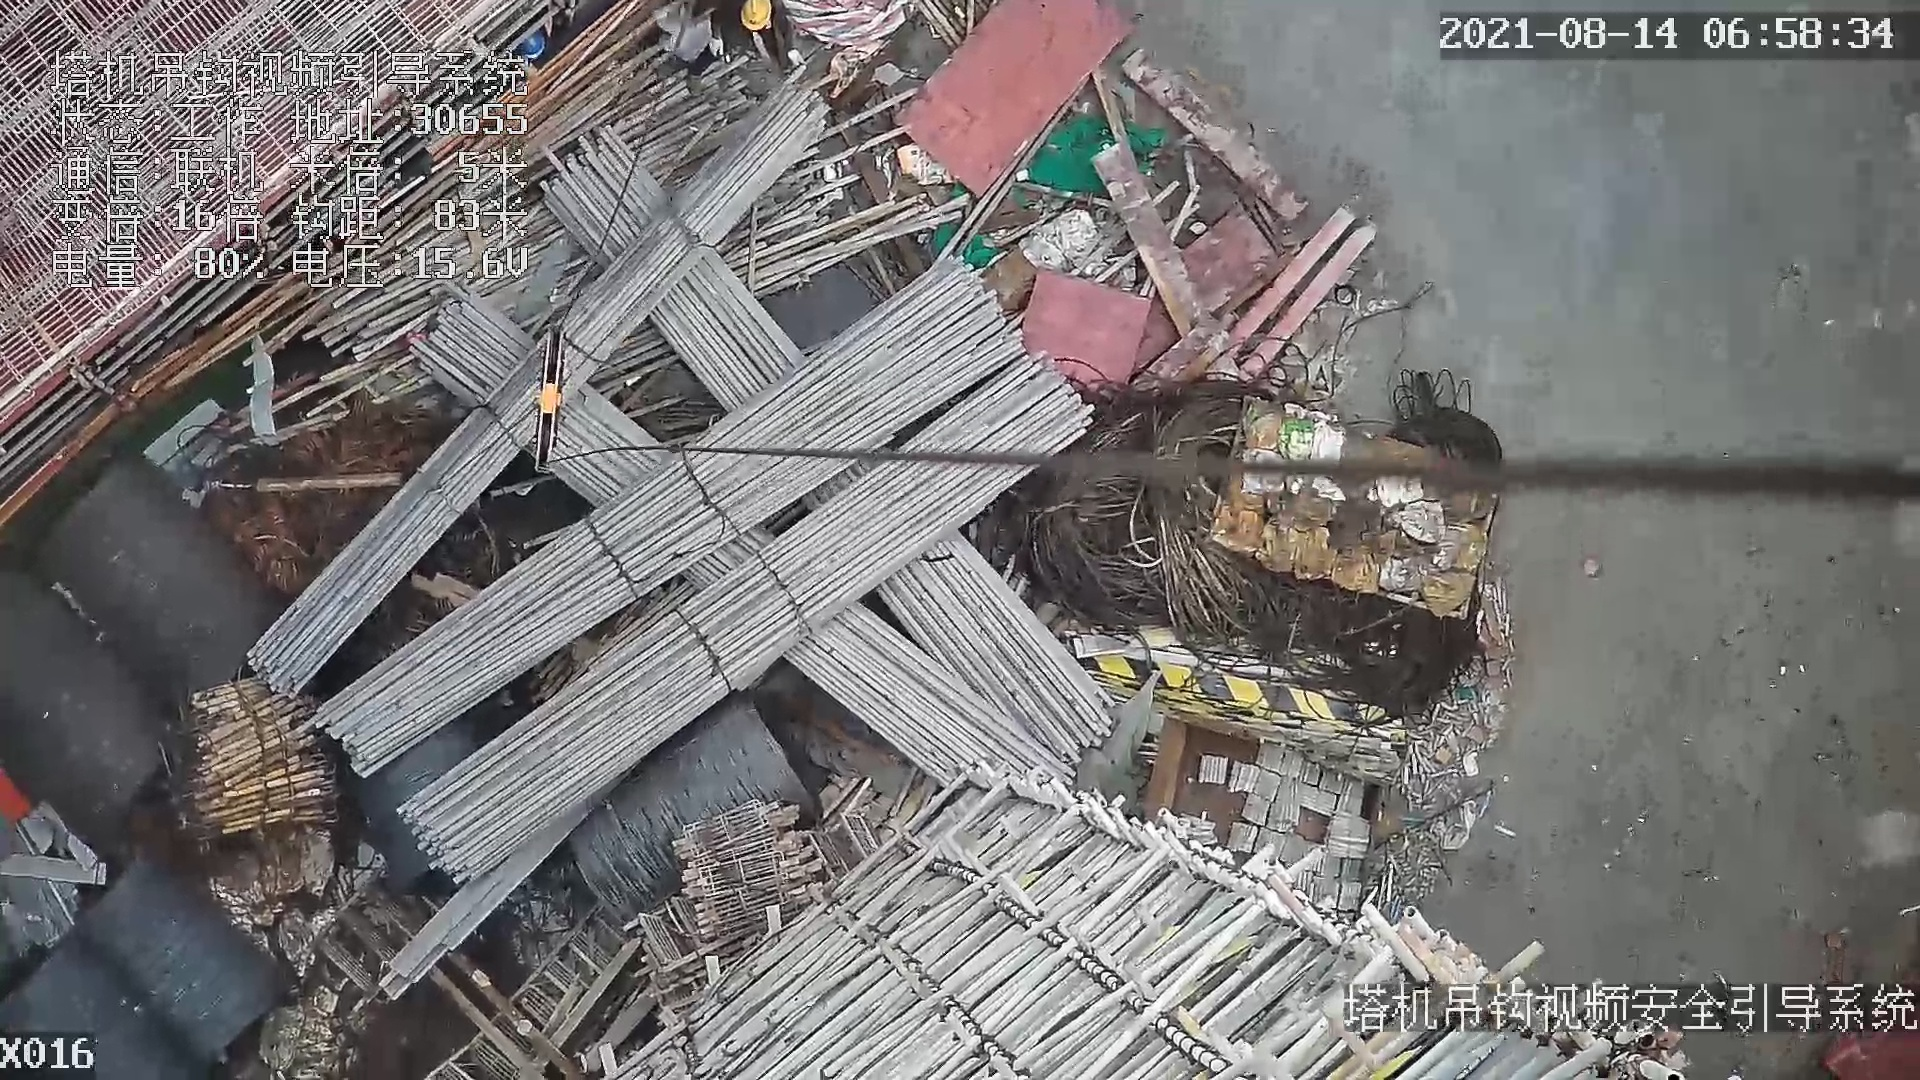helmet: (739, 1, 771, 30)
hook: (529, 324, 567, 472)
person: (686, 1, 820, 90)
rebar: (311, 256, 1028, 779), (400, 351, 1093, 887), (247, 80, 825, 696), (889, 530, 1115, 764), (786, 606, 1075, 783)
scaffold: (185, 677, 339, 838)
